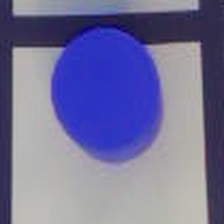cylinder: (37, 19, 175, 166)
